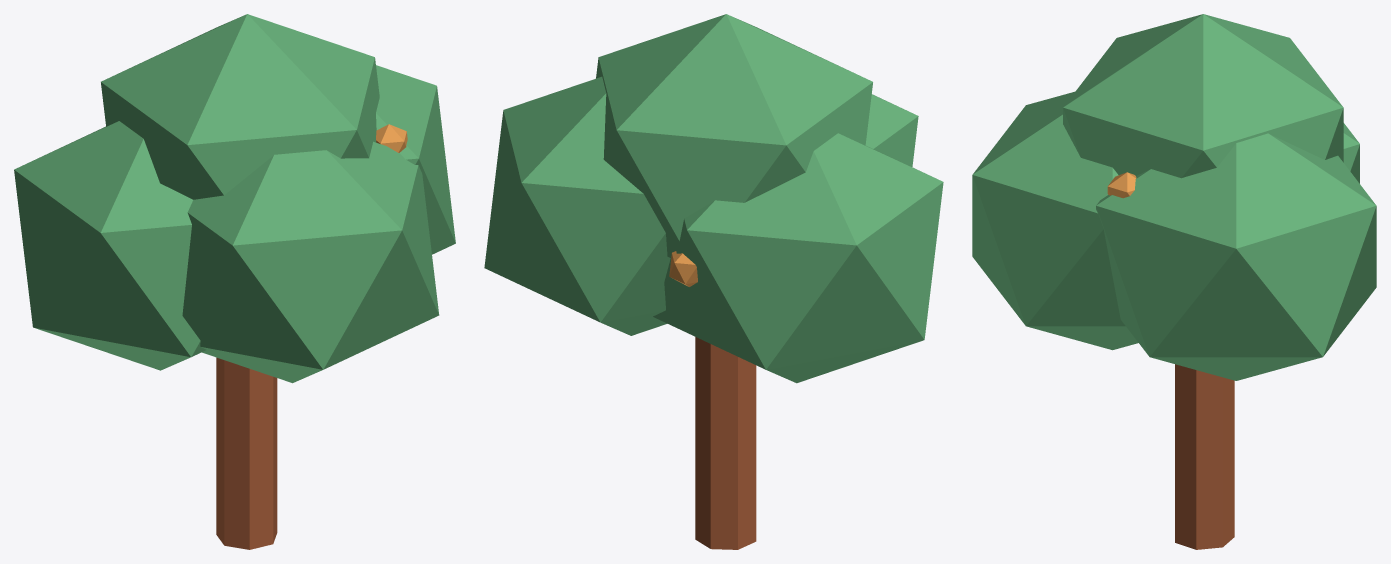
The model's file is citrus_tree.glb.
3 renders of one model, left to right at view 1: azimuth 30°, elevation 25°; view 2: azimuth 150°, elevation 25°; view 3: azimuth 270°, elevation 25°, orthographic.
Parts seen in each view (by area): view 1: Tree crown.003, Tree crown, Tree crown.001, Trunk, Tree crown.002, Citrus fruit.005; view 2: Tree crown.001, Tree crown, Tree crown.002, Trunk, Tree crown.003, Citrus fruit.006; view 3: Tree crown.002, Tree crown, Tree crown.003, Trunk, Tree crown.001, Citrus fruit.005.
Boxes of the visible parts, bbox=[...] form: Tree crown.003: bbox=[182, 141, 439, 383]; Tree crown: bbox=[101, 14, 379, 199]; Tree crown.001: bbox=[14, 121, 206, 370]; Trunk: bbox=[216, 357, 277, 549]; Tree crown.002: bbox=[376, 65, 455, 254]; Citrus fruit.005: bbox=[376, 124, 407, 152]; Tree crown.001: bbox=[653, 133, 943, 383]; Tree crown: bbox=[596, 14, 872, 257]; Tree crown.002: bbox=[484, 76, 670, 335]; Trunk: bbox=[695, 337, 756, 549]; Tree crown.003: bbox=[865, 94, 918, 166]; Citrus fruit.006: bbox=[669, 251, 697, 286]; Tree crown.002: bbox=[1096, 133, 1376, 380]; Tree crown: bbox=[1063, 14, 1343, 178]; Tree crown.003: bbox=[972, 91, 1138, 350]; Trunk: bbox=[1175, 364, 1234, 549]; Tree crown.001: bbox=[1343, 123, 1359, 183]; Citrus fruit.005: bbox=[1107, 172, 1136, 198].
Size of the model in its own units: 2.89 by 3.5 by 2.45.
